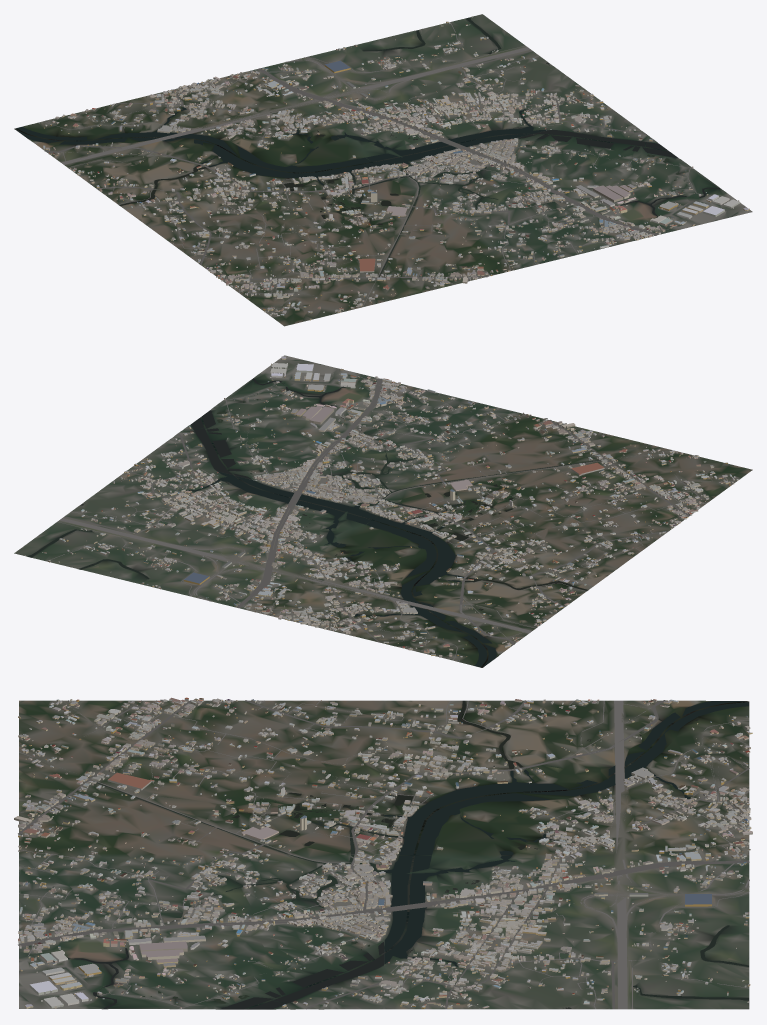
3 renders of one model, top to bottom at view 1: azimuth 30°, elevation 25°; view 2: azimuth 150°, elevation 25°; view 3: azimuth 270°, elevation 25°, orthographic. The views are drawn at different scales.
Parts seen in each view (by area): view 1: ground, buildings, water, roads; view 2: ground, buildings, water, roads; view 3: ground, buildings, water, roads.
Boxes of the visible parts, x1,y1,x2,y2 form: ground: [14, 14, 752, 326]; buildings: [39, 16, 749, 320]; water: [15, 17, 721, 277]; roads: [44, 22, 702, 312]; ground: [14, 355, 752, 667]; buildings: [24, 356, 738, 661]; water: [28, 378, 602, 667]; roads: [46, 373, 718, 660]; ground: [19, 700, 749, 1009]; buildings: [14, 697, 752, 1009]; water: [67, 700, 748, 1009]; roads: [18, 700, 749, 1009].
Size of the model in its own units: 2817 by 55.53 by 2834.
